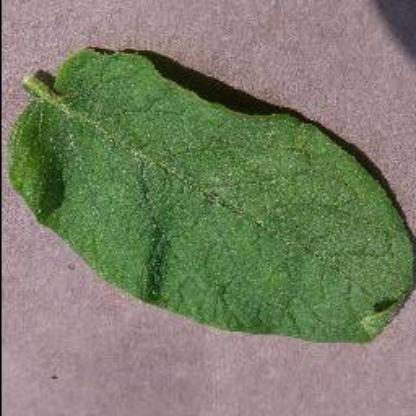Healthy-plant: (8, 43, 416, 350)
